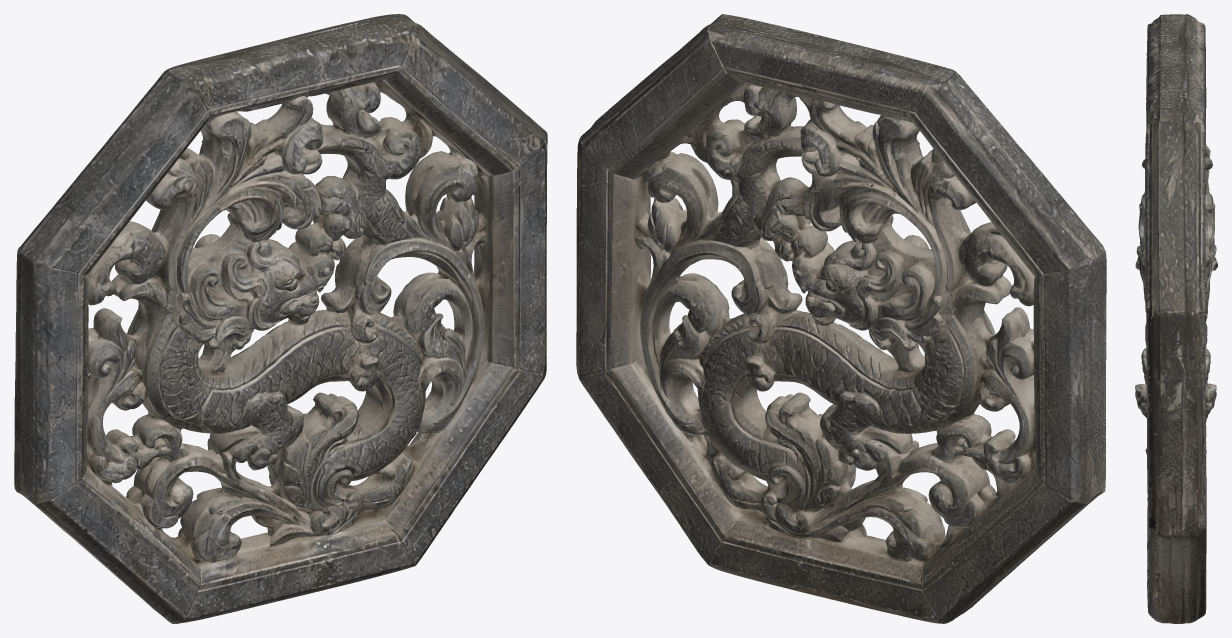
The model's file is chi-window.glb.
3 views of the same model, side by side, from view 1: azimuth 30°, elevation 25°; view 2: azimuth 150°, elevation 25°; view 3: azimuth 270°, elevation 25° (orthographic). The views are drawn at different scales.
Visible parts, largest first — view 1: model; view 2: model; view 3: model.
Boxes of the visible parts, left/top/right/bottom form: model: left=14, top=14, right=547, bottom=623; model: left=576, top=14, right=1106, bottom=623; model: left=1135, top=14, right=1217, bottom=623.
Bounding box in the file's own units: 1.88 × 1.9 × 0.2805.
1 material, 1 textured.
